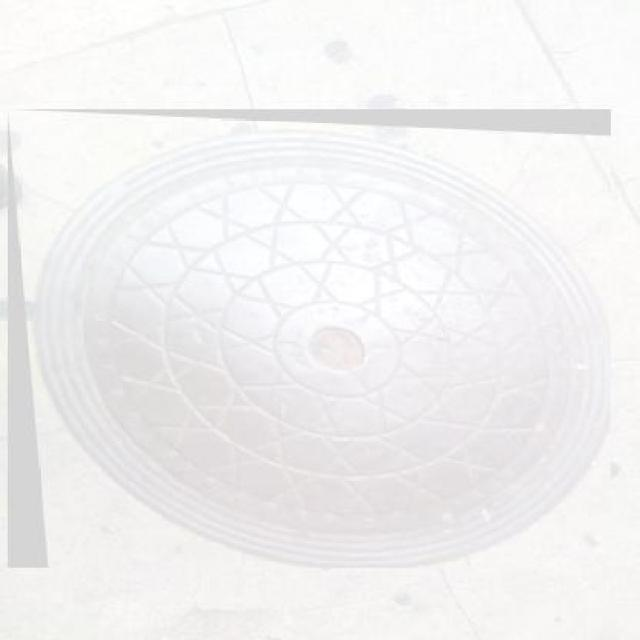Manhole: (8, 109, 610, 568)
